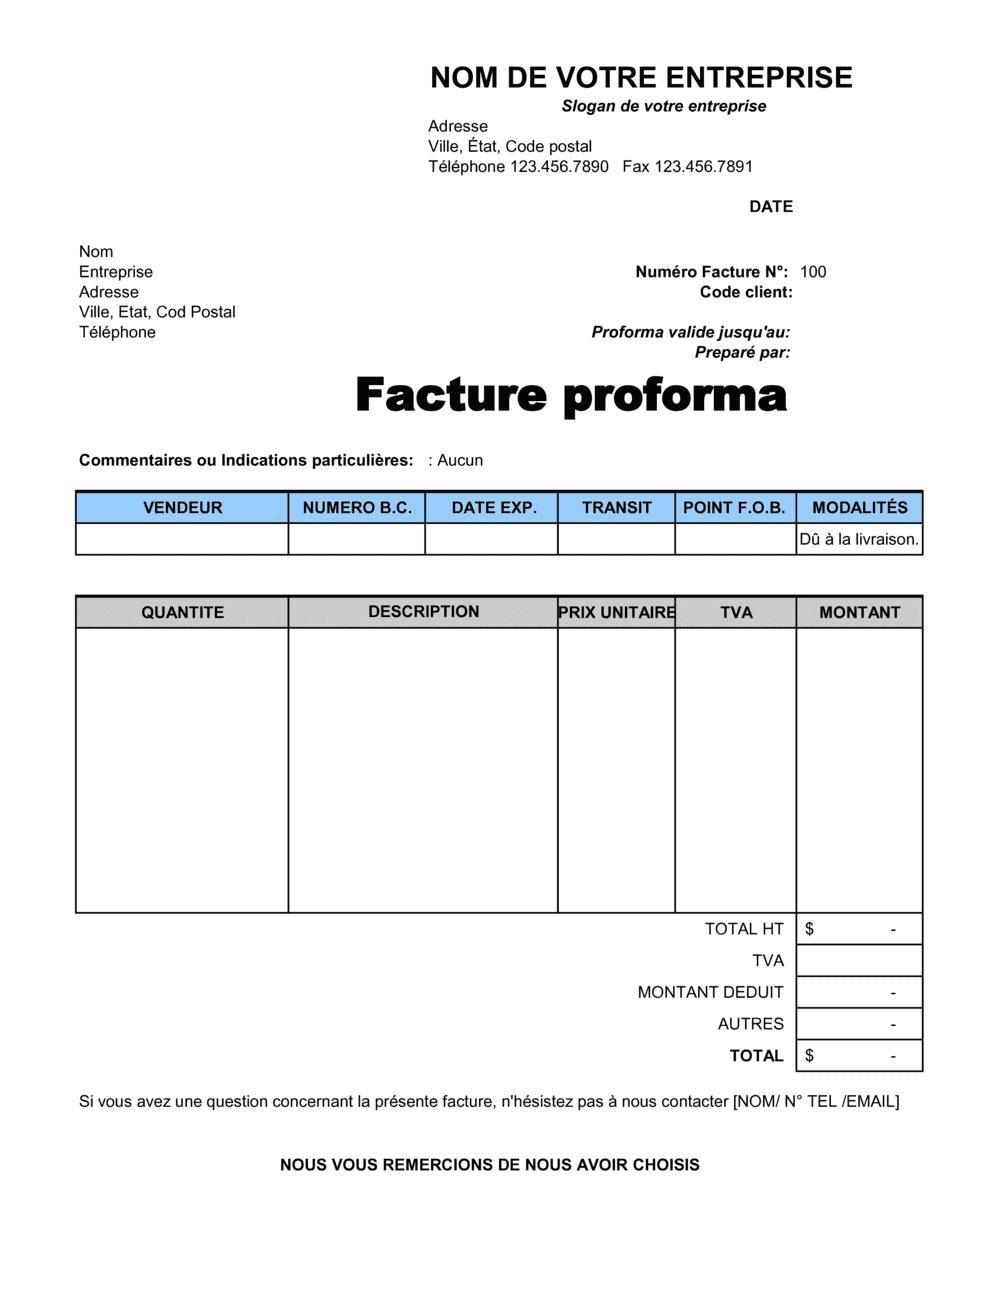ROI: (75, 594, 922, 909), (420, 53, 869, 181), (635, 916, 919, 1068), (630, 189, 980, 310), (75, 230, 311, 371)
